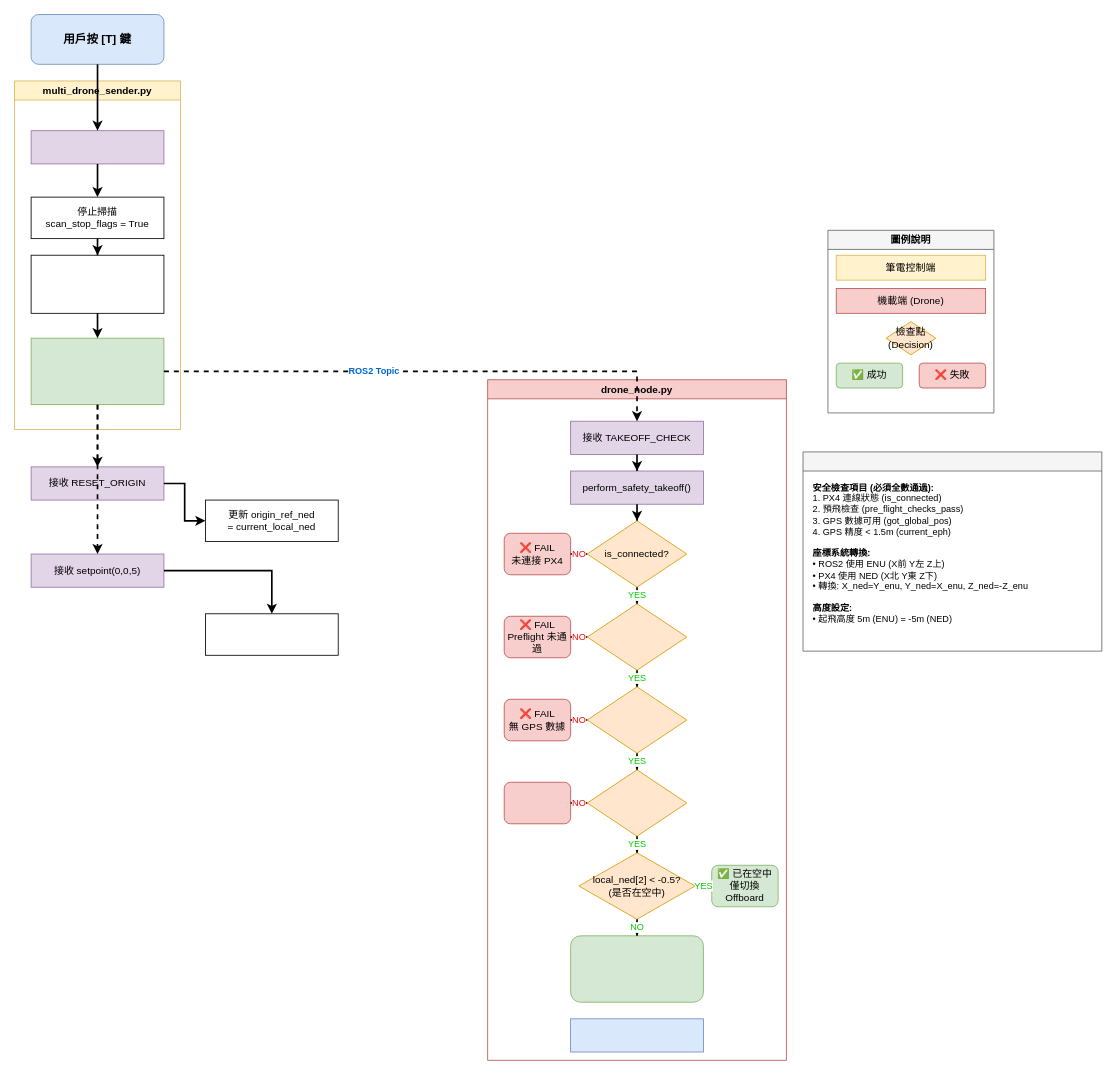
Some shapes in this 1116 by 1075 pixel diagram are drawn without their labels. The shapes that lost their labels are listed below. From the top down, each one's box as (x1, y1, x2, y2) in pixels, then its label:
(30, 130, 164, 164): perform_takeoff()
(30, 254, 164, 313): 重置原點與掃描數據 - current_scan_position - scan_origin - signal_history
(30, 337, 164, 405): 發送指令 1. RESET_ORIGIN 2. TAKEOFF_CHECK 3. setpoint(0,0,5)
(802, 451, 1102, 651): 備註說明
(205, 613, 338, 655): ENU → NED 轉換 target_pos_ned = [0,0,-5]
(586, 603, 687, 670): pre_flight_checks_pass?
(586, 686, 687, 753): got_global_pos?
(503, 781, 571, 824): ❌ FAIL GPS 精度不足
(586, 769, 687, 836): current_eph < 1.5?
(570, 935, 703, 1002): ✅ 在地面 1. target = [0,0,-5] 2. 切換 Offboard 3. 解鎖 (Arm)
(570, 1018, 703, 1052): timer_callback() 持續發送 - Offboard 心跳 - Trajectory Setpoint
